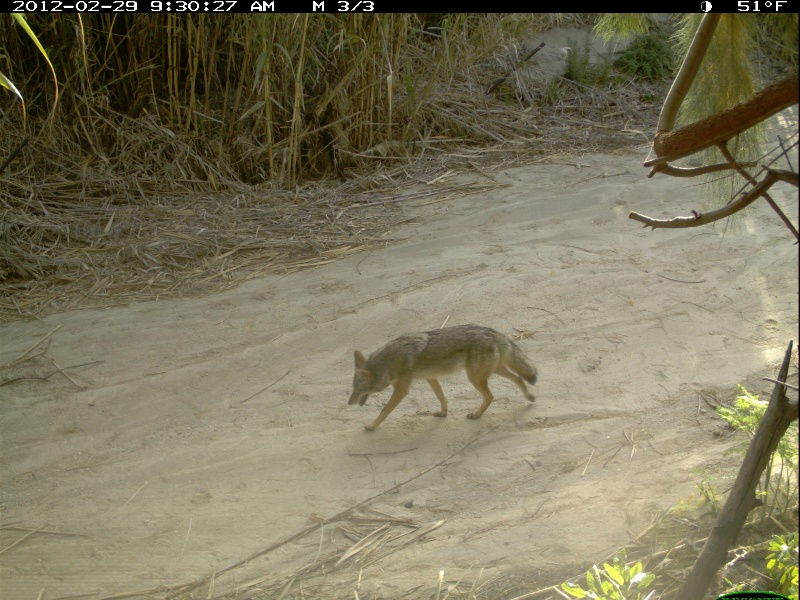coyote: (346, 320, 540, 435)
